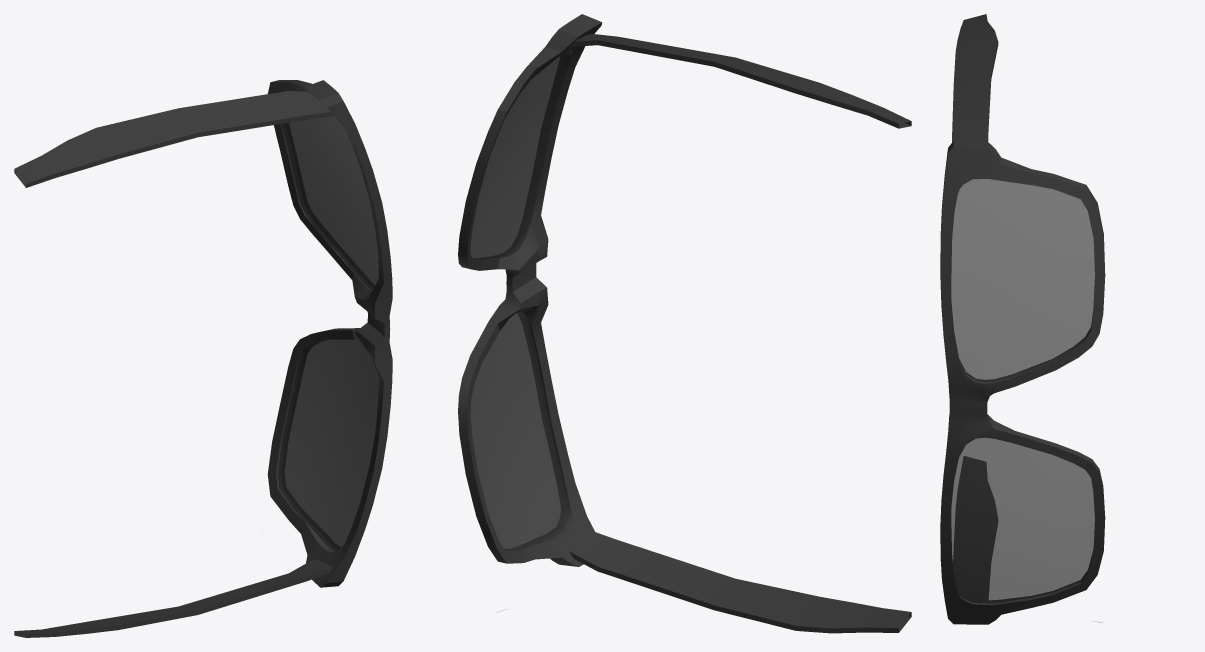
File: glasses2.glb
3 renders of one model, left to right at view 1: azimuth 30°, elevation 25°; view 2: azimuth 150°, elevation 25°; view 3: azimuth 270°, elevation 25°, orthographic. The views are drawn at different scales.
Parts seen in each view (by area): view 1: Glasses_Lenses_0, Glasses_Glasses1_0, Glasses_Glasses2_0; view 2: Glasses_Lenses_0, Glasses_Glasses1_0, Glasses_Glasses2_0; view 3: Glasses_Lenses_0, Glasses_Glasses1_0, Glasses_Glasses2_0.
Boxes of the visible parts, bbox=[...] form: Glasses_Lenses_0: bbox=[277, 91, 378, 550]; Glasses_Glasses1_0: bbox=[267, 80, 392, 587]; Glasses_Glasses2_0: bbox=[14, 91, 333, 637]; Glasses_Lenses_0: bbox=[470, 51, 568, 550]; Glasses_Glasses1_0: bbox=[458, 14, 602, 566]; Glasses_Glasses2_0: bbox=[569, 34, 911, 633]; Glasses_Lenses_0: bbox=[951, 179, 1094, 603]; Glasses_Glasses1_0: bbox=[940, 140, 1105, 624]; Glasses_Glasses2_0: bbox=[952, 14, 998, 599].
Bounding box in the file's own units: 19.08 × 25.32 × 11.8.
3 materials, 2 textured.
